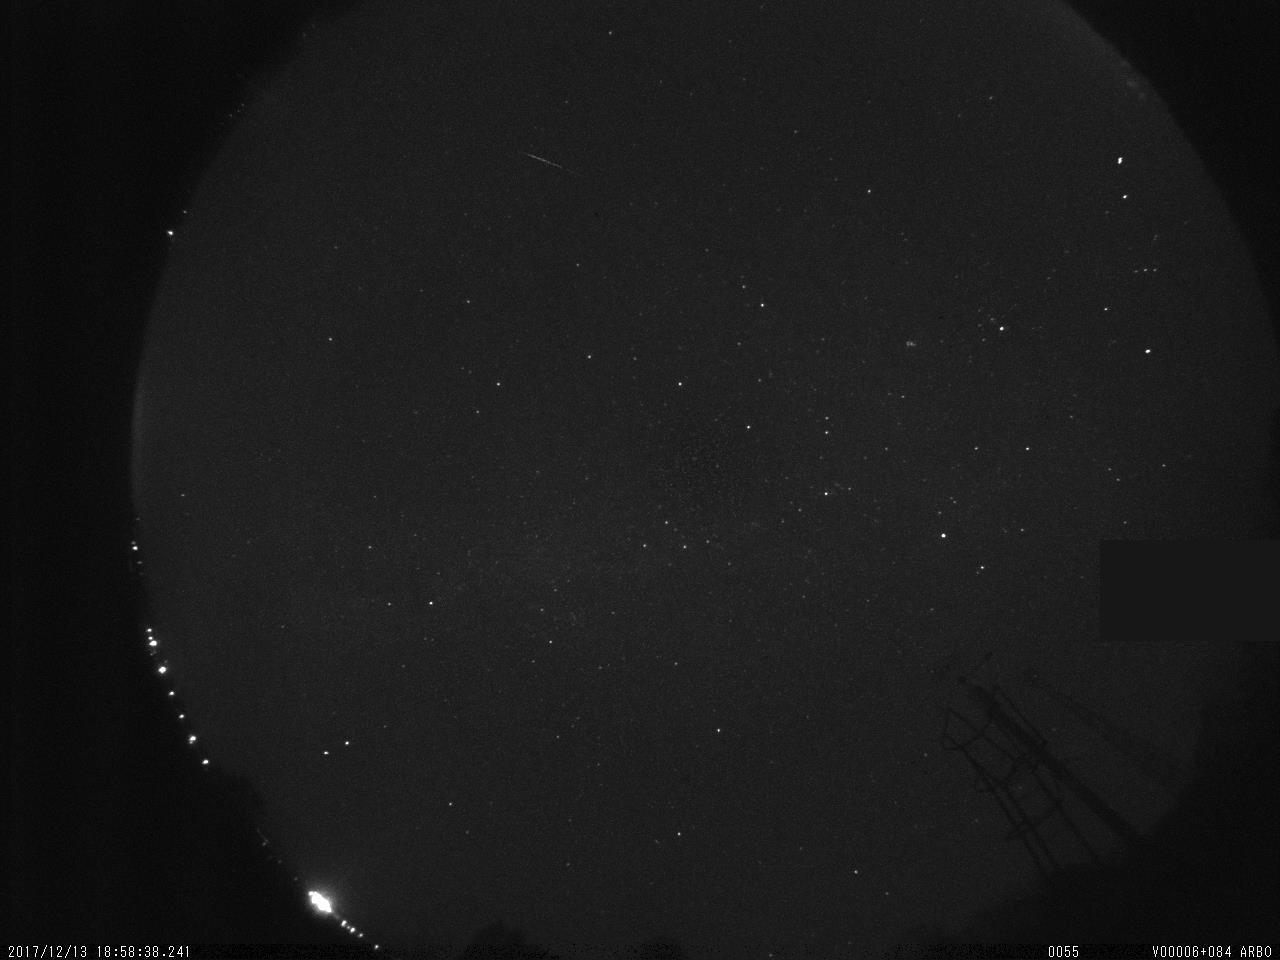meteor: (508, 139, 585, 182)
